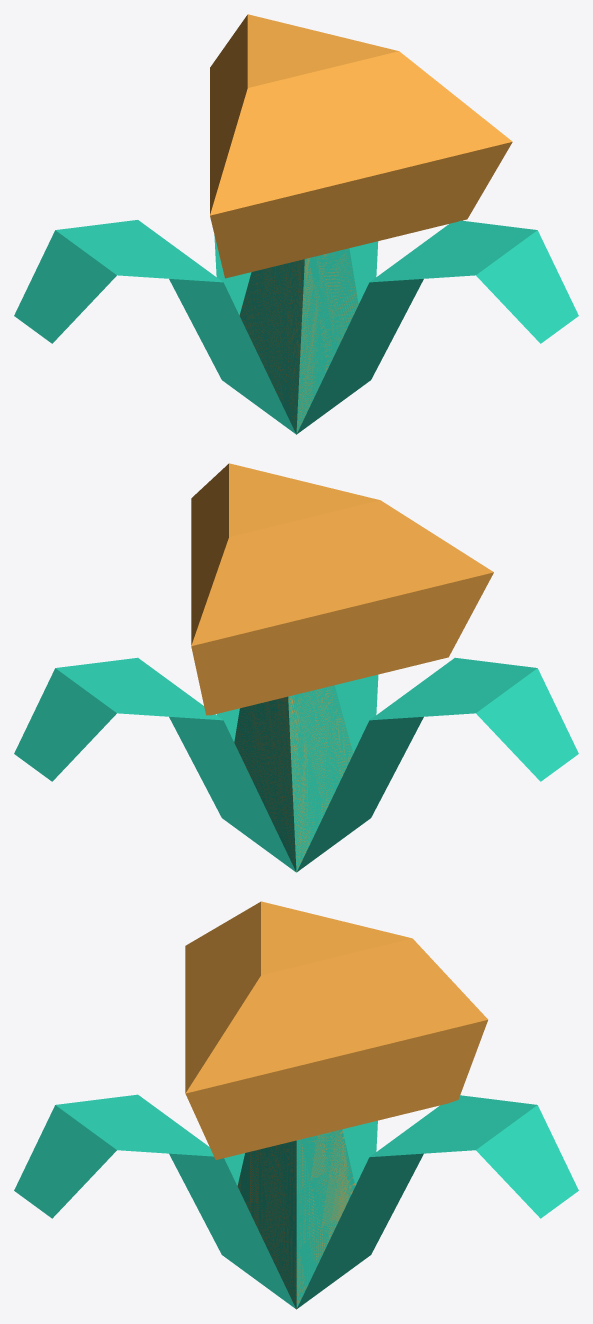
The model's file is flower_yellowB.dae.
3 views of the same model, one above another, from view 1: azimuth 30°, elevation 25°; view 2: azimuth 150°, elevation 25°; view 3: azimuth 270°, elevation 25° (orthographic).
Visible parts, largest first — view 1: flower_yellowB; view 2: flower_yellowB; view 3: flower_yellowB.
Part boxes in pixels (bbox=[...]): flower_yellowB: bbox=[14, 14, 578, 434]; flower_yellowB: bbox=[14, 463, 578, 872]; flower_yellowB: bbox=[14, 901, 578, 1309].
Bounding box in the file's own units: 0.2073 × 0.1585 × 0.2392.
